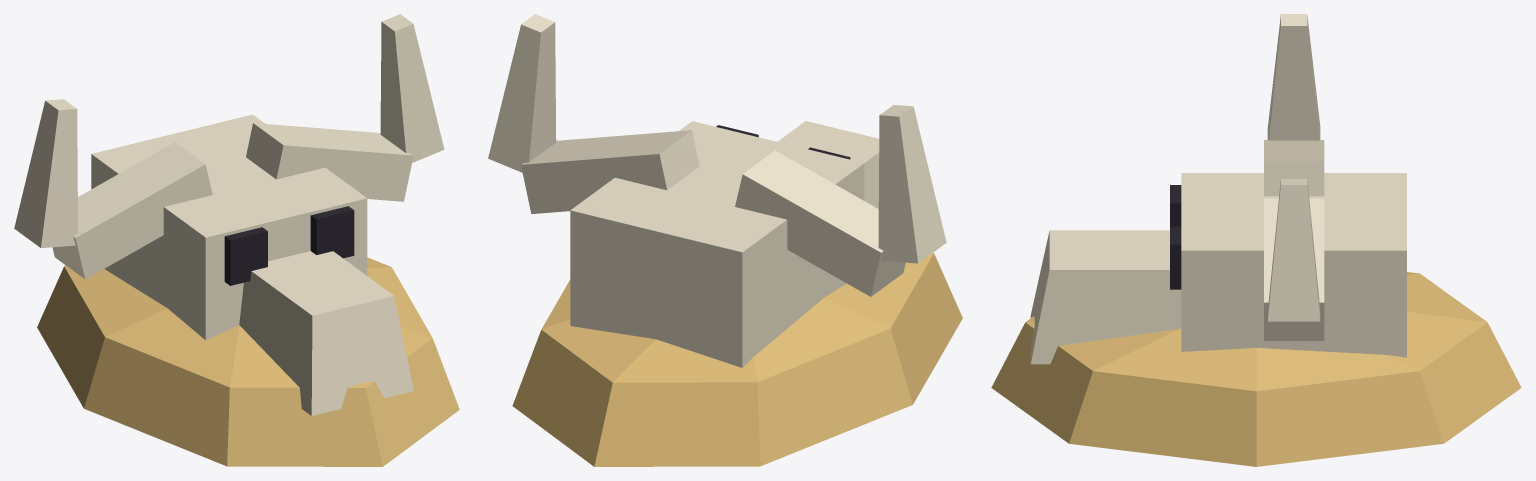
The model's file is env_r5_bull_skull.glb.
3 renders of one model, left to right at view 1: azimuth 30°, elevation 25°; view 2: azimuth 150°, elevation 25°; view 3: azimuth 270°, elevation 25°, orthographic. The views are drawn at different scales.
Parts seen in each view (by area): view 1: env_r5_bull_skull; view 2: env_r5_bull_skull; view 3: env_r5_bull_skull.
Part boxes in pixels (bbox=[...]): env_r5_bull_skull: bbox=[14, 14, 459, 466]; env_r5_bull_skull: bbox=[488, 14, 962, 466]; env_r5_bull_skull: bbox=[991, 14, 1521, 466].
Size of the model in its own units: 1.3 by 0.9 by 1.5.
1 material, 1 textured.
